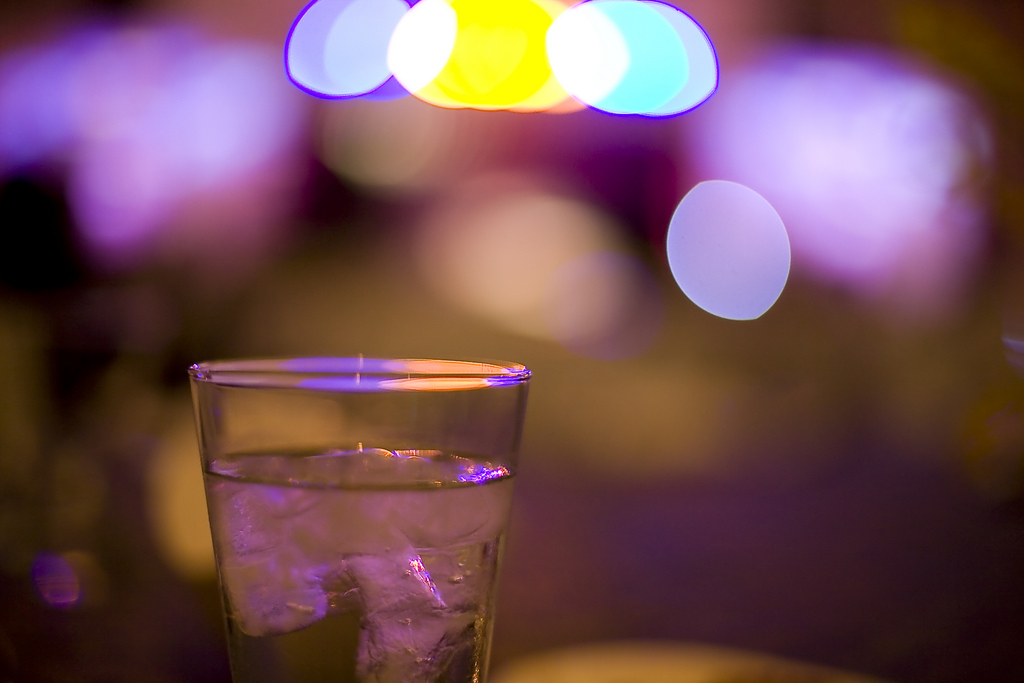glass of water: (171, 350, 561, 683)
